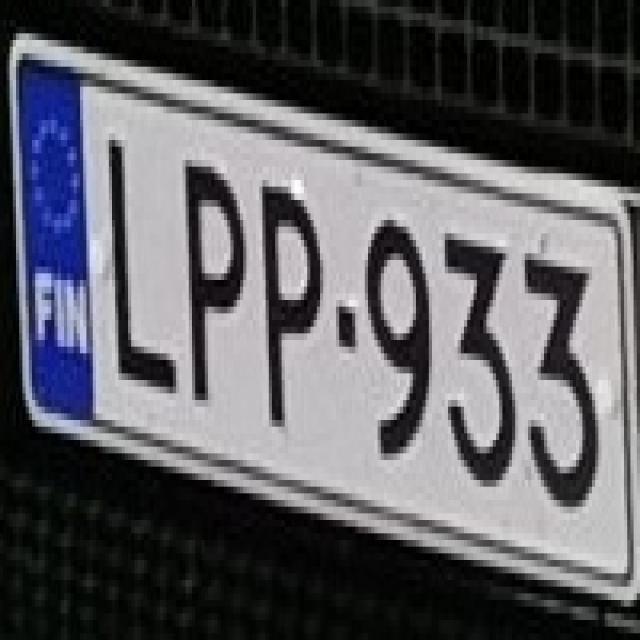3: (509, 240, 608, 507), (432, 213, 522, 480)
9: (348, 200, 436, 460)
L: (90, 120, 176, 393)
P: (173, 133, 253, 400), (246, 160, 326, 427)
